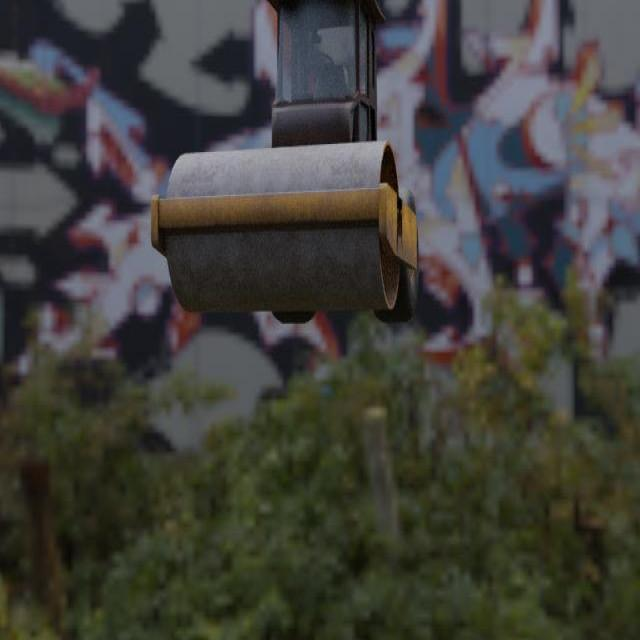Roller: (150, 0, 419, 325)
